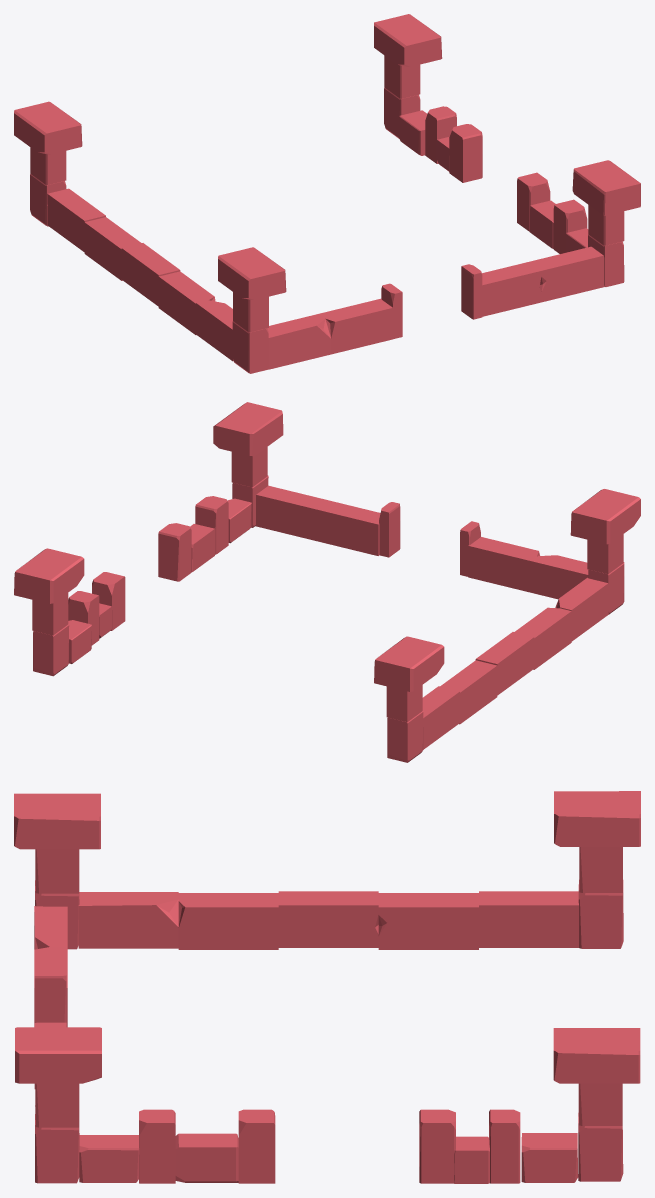
Rendered from WolfdenDenWalls.fbx.
The picture shows the model from 3 angles, top to bottom: view 1: azimuth 30°, elevation 25°; view 2: azimuth 150°, elevation 25°; view 3: azimuth 270°, elevation 25°; orthographic projection. The views are drawn at different scales.
Visible parts, largest first — view 1: Cube.034, Cube.036, Cube.035, Cube.022, Cube.023, Cube.024, Cube.025, Cube.039, Cube.014, Cube.041, Cube.040, Cube.019 (+11 smaller); view 2: Cube.034, Cube.035, Cube.036, Cube.025, Cube.024, Cube.023, Cube.022, Cube.040, Cube.016, Cube.018, Cube.041, Cube.039 (+12 smaller); view 3: Cube.034, Cube.023, Cube.025, Cube.022, Cube.024, Cube.045, Cube.043, Cube.044, Cube.040, Cube.041, Cube.039, Cube.020 (+11 smaller).
Part boxes in pixels (x1,y1,x2,y2): Cube.034: (47,188,233,361); Cube.036: (267,298,393,369); Cube.035: (482,246,604,316); Cube.022: (572,160,640,215); Cube.023: (218,247,286,299); Cube.024: (14,101,82,154); Cube.025: (374,14,442,66); Cube.039: (449,124,482,182); Cube.014: (232,321,268,373); Cube.041: (553,199,587,253); Cube.040: (517,172,550,231); Cube.019: (384,55,420,98); Cube.034: (422,577,608,749); Cube.035: (255,485,380,555); Cube.036: (468,537,588,599); Cube.025: (14,548,84,603); Cube.024: (374,636,444,691); Cube.023: (570,489,640,544); Cube.022: (213,402,283,456); Cube.040: (158,523,191,581); Cube.016: (387,710,423,762); Cube.018: (33,623,69,676); Cube.041: (195,496,228,554); Cube.039: (92,572,125,630); Cube.034: (78,891,578,949); Cube.023: (14,793,100,849); Cube.025: (553,1028,640,1083); Cube.022: (15,1027,101,1083); Cube.024: (554,791,640,846); Cube.045: (175,1133,238,1182); Cube.043: (79,1135,139,1182); Cube.044: (521,1133,578,1182); Cube.040: (238,1109,275,1183); Cube.041: (139,1109,175,1183); Cube.039: (419,1109,455,1183); Cube.020: (35,1114,79,1183).
Size of the model in its own units: 5832 by 1432 by 5896.
